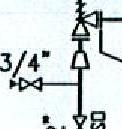psv: (68, 1, 100, 39)
valve: (18, 75, 43, 92)
